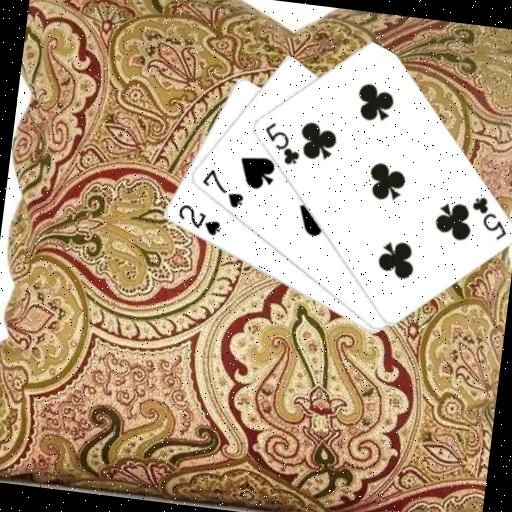2S: (172, 201, 225, 239)
5C: (257, 118, 305, 168), (465, 192, 512, 242)
7S: (196, 165, 248, 211)
